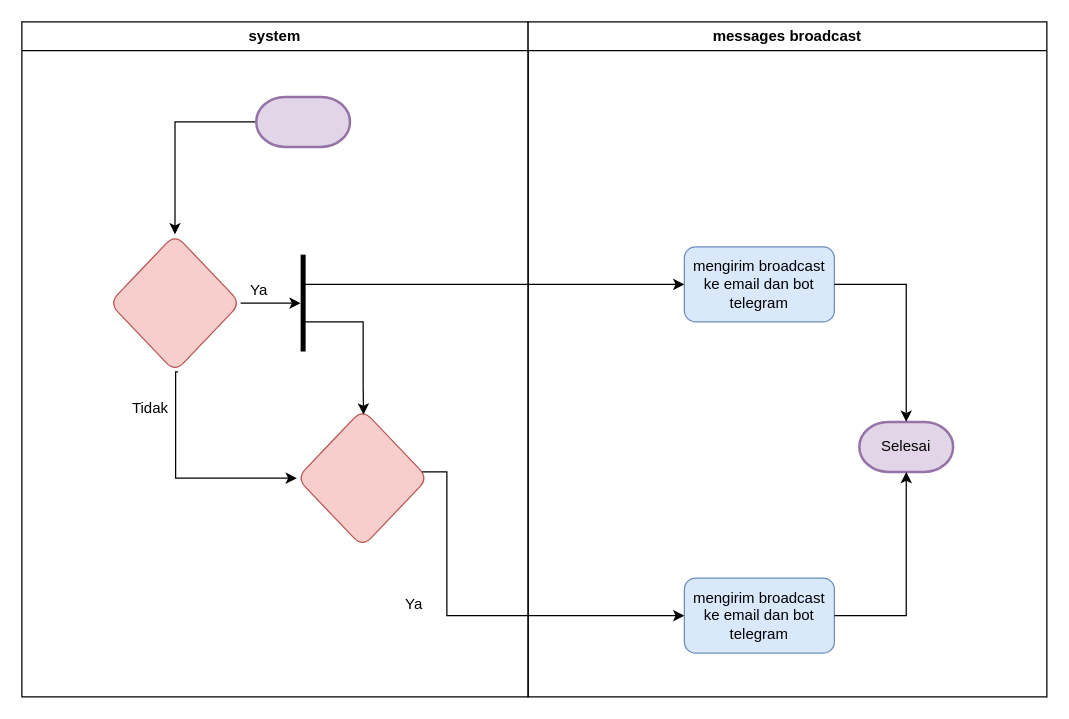
The diagram is 1069 pixels wide and 719 high, and some of its shapes have lost their labels. Here are the shapes that lost their labels. From the top down, the centre of each, then its label:
At (x=302, y=121): "Mulai".
At (x=174, y=302): "Mengecek H+1 apakah ada event".
At (x=362, y=477): "Mengecek H+2 apakah ada event".
